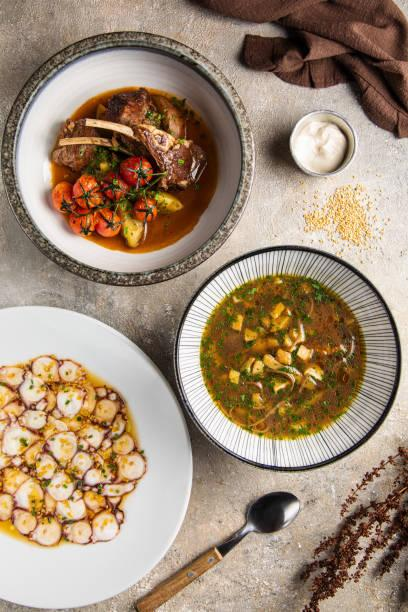Braised Crucian Carp: (3, 31, 249, 279), (1, 304, 194, 606), (172, 248, 399, 471)
